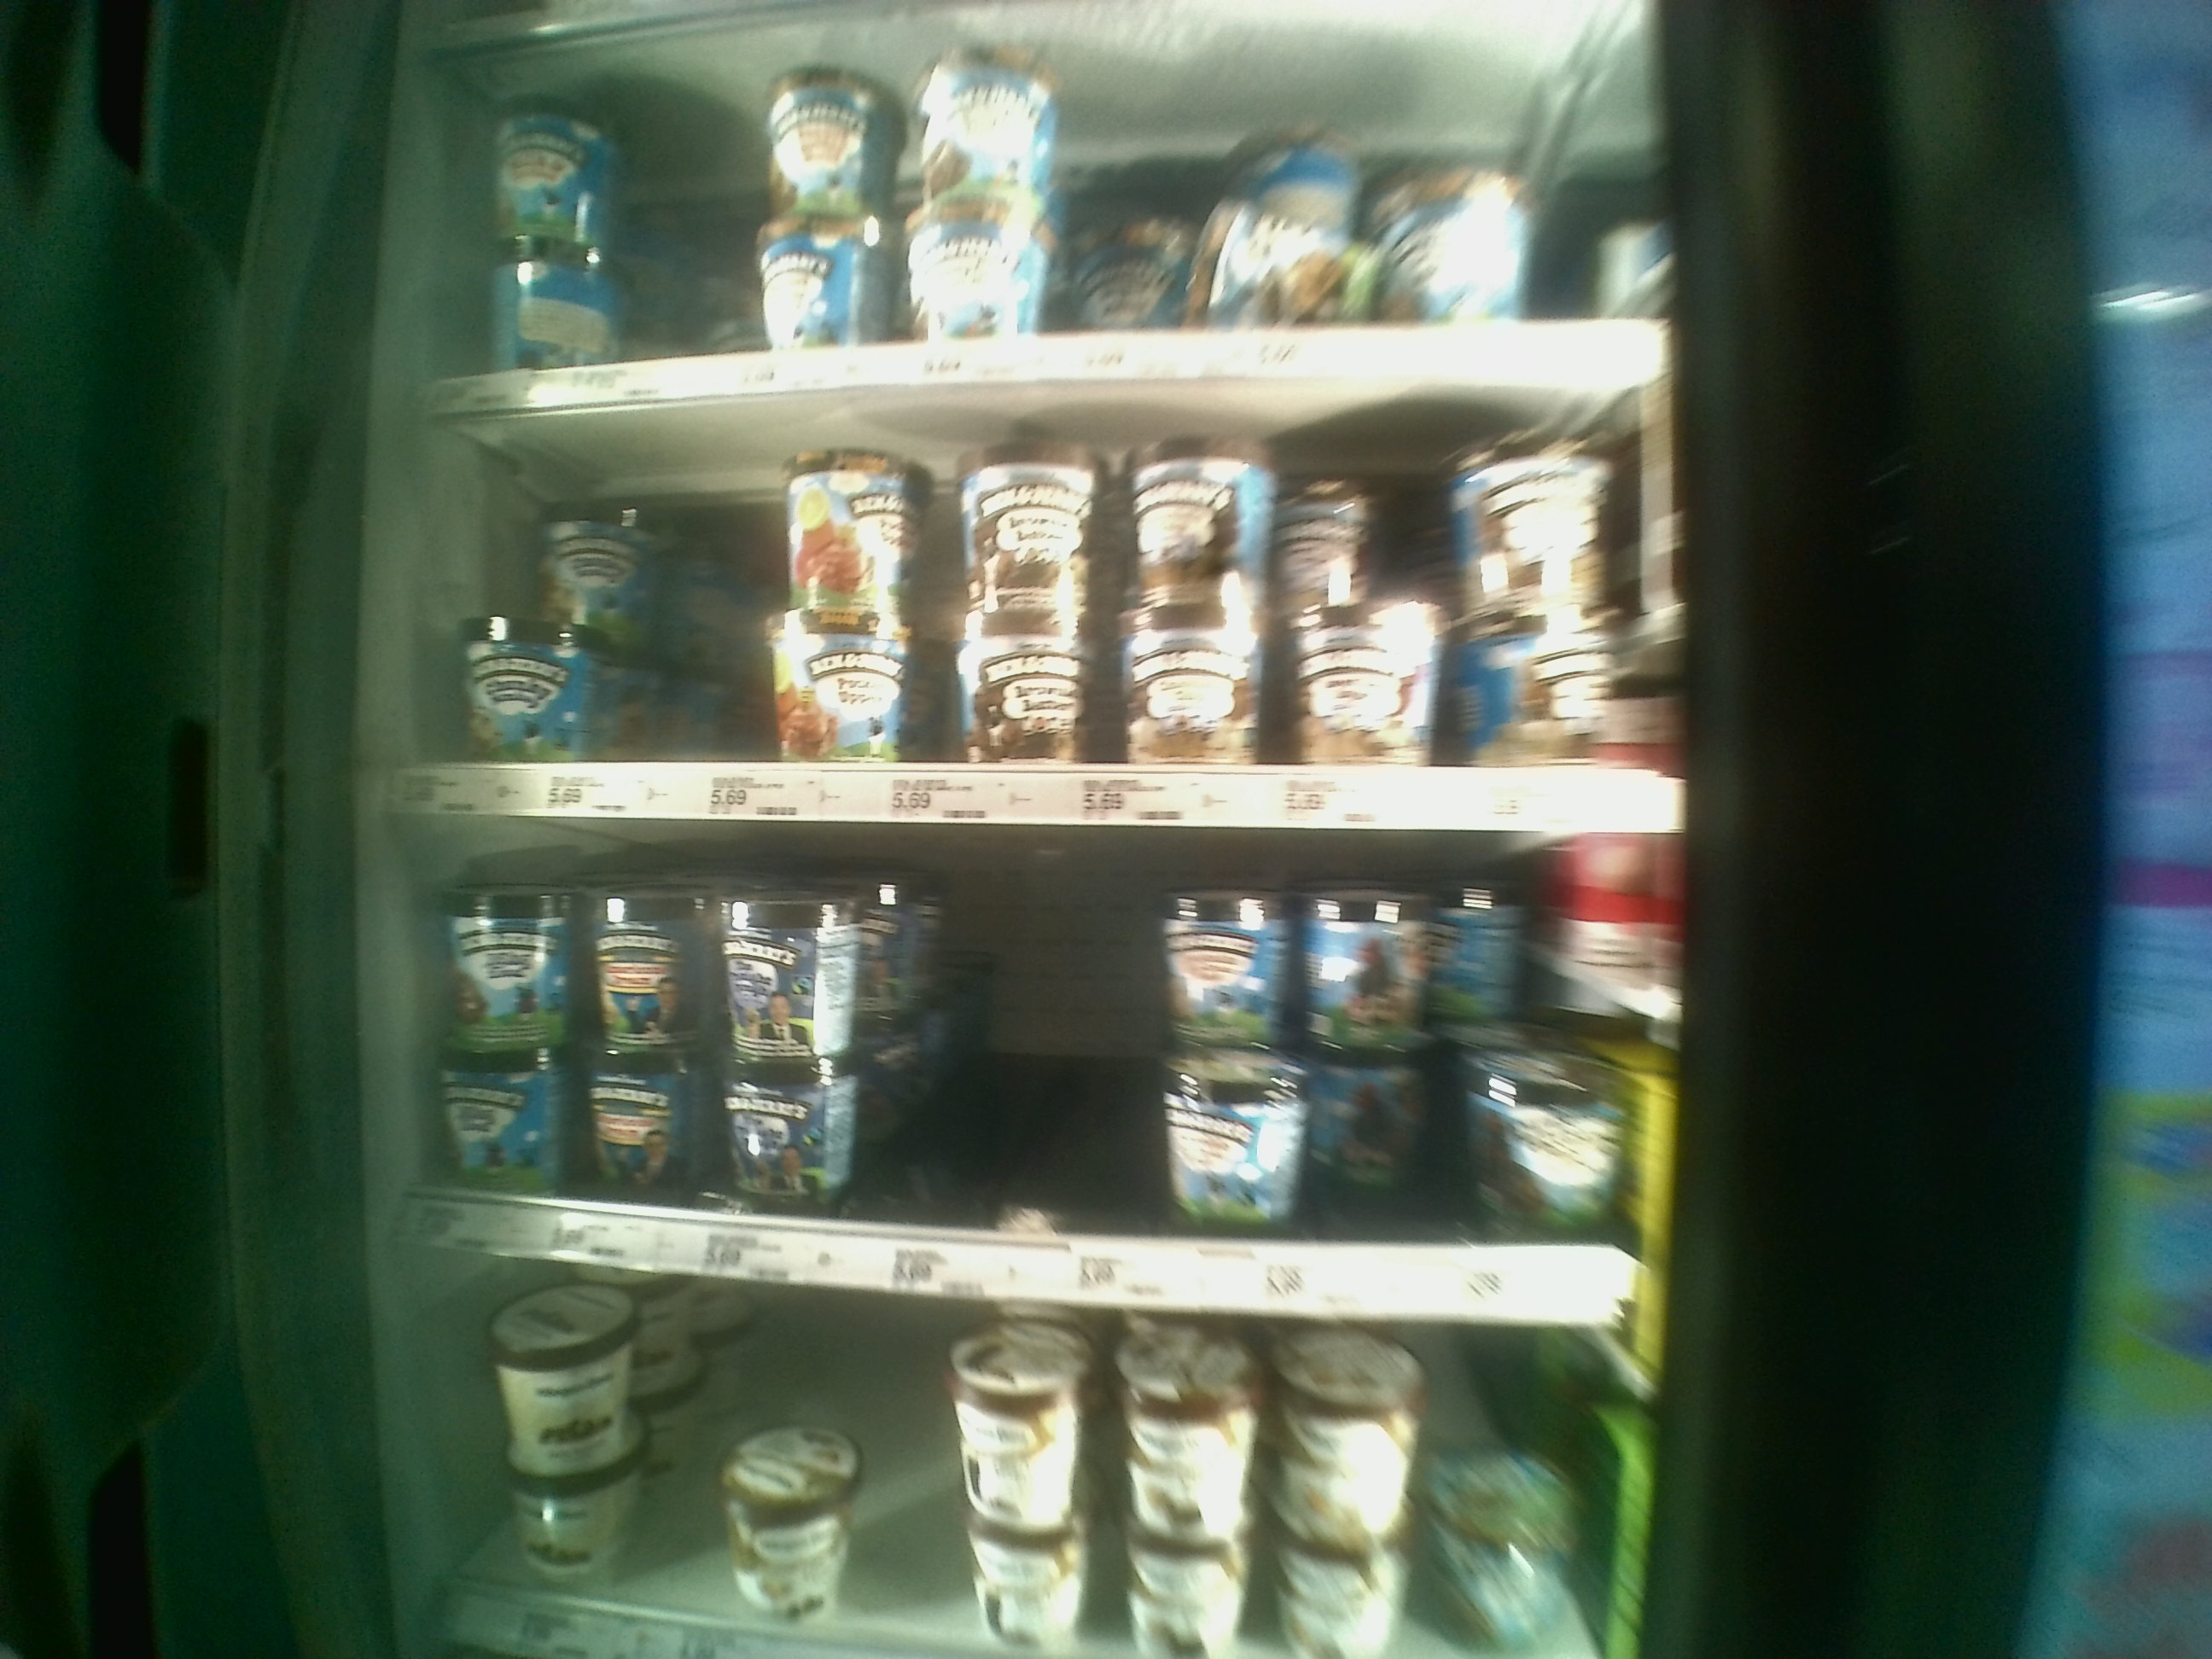shelf: (416, 814, 1663, 1328), (421, 380, 1681, 831)
